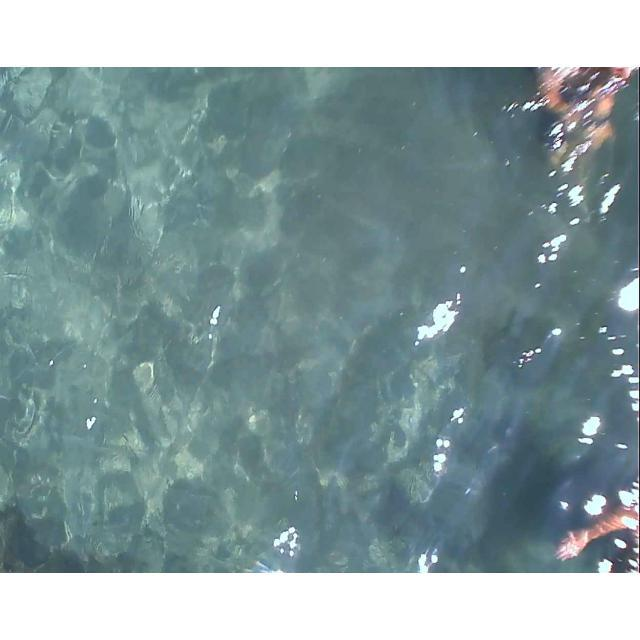human: (546, 67, 634, 160)
